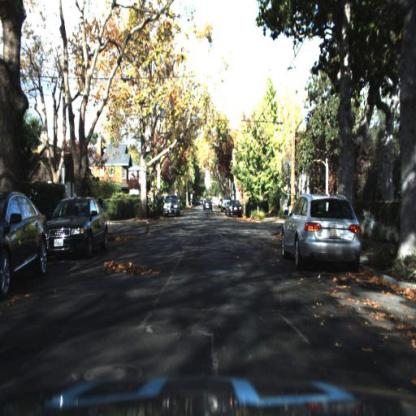car: (276, 187, 370, 276), (1, 190, 54, 301), (43, 189, 113, 266), (48, 195, 111, 259), (162, 190, 184, 222), (227, 202, 244, 222), (228, 199, 244, 220), (203, 198, 217, 214), (221, 197, 229, 216)
pedestrian: (98, 197, 108, 210)
